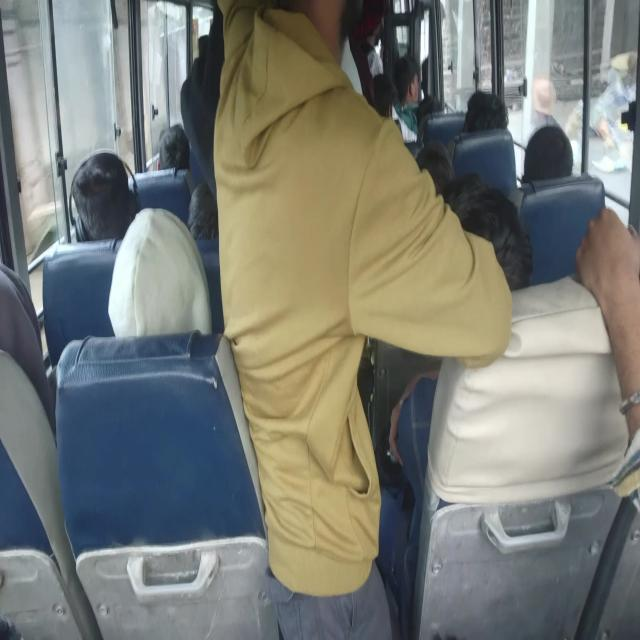person: (211, 0, 515, 638), (387, 175, 532, 476), (575, 206, 639, 445), (107, 206, 212, 338), (68, 149, 138, 242), (522, 122, 573, 184), (391, 54, 422, 144), (462, 90, 509, 132), (530, 75, 560, 131), (158, 123, 190, 171)
